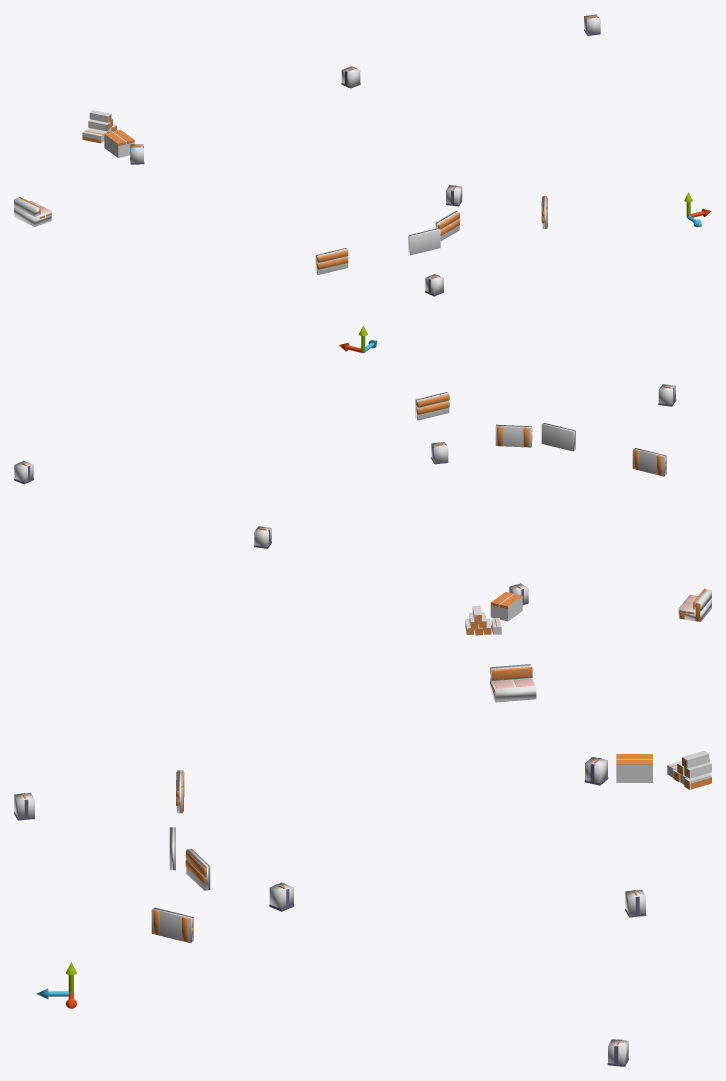
The model's file is sceneryDynamic.glb.
The picture shows the model from 3 angles, top to bottom: view 1: azimuth 30°, elevation 25°; view 2: azimuth 150°, elevation 25°; view 3: azimuth 270°, elevation 25°; orthographic projection. The views are drawn at different scales.
Visible parts, largest first — view 1: cube.004; view 2: cube.004, cube.003, cube.002, cube.017; view 3: cube.005, bench, cube, cube.017.
Boxes of the visible parts, x1,y1,x2,y2 form: cube.004: (408,228,440,255); cube.004: (541,423,575,451); cube.003: (495,424,531,447); cube.002: (632,448,666,476); cube.017: (490,593,522,621); cube.005: (151,907,193,943); bench: (491,667,534,693); cube: (490,677,536,702); cube.017: (616,759,652,782).
Bounding box in the file's own units: 44.12 × 2.21 × 33.07.
